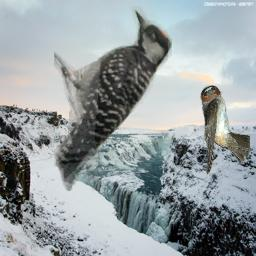Swallow: (200, 85, 250, 175)
Woodpecker: (54, 2, 172, 191)
